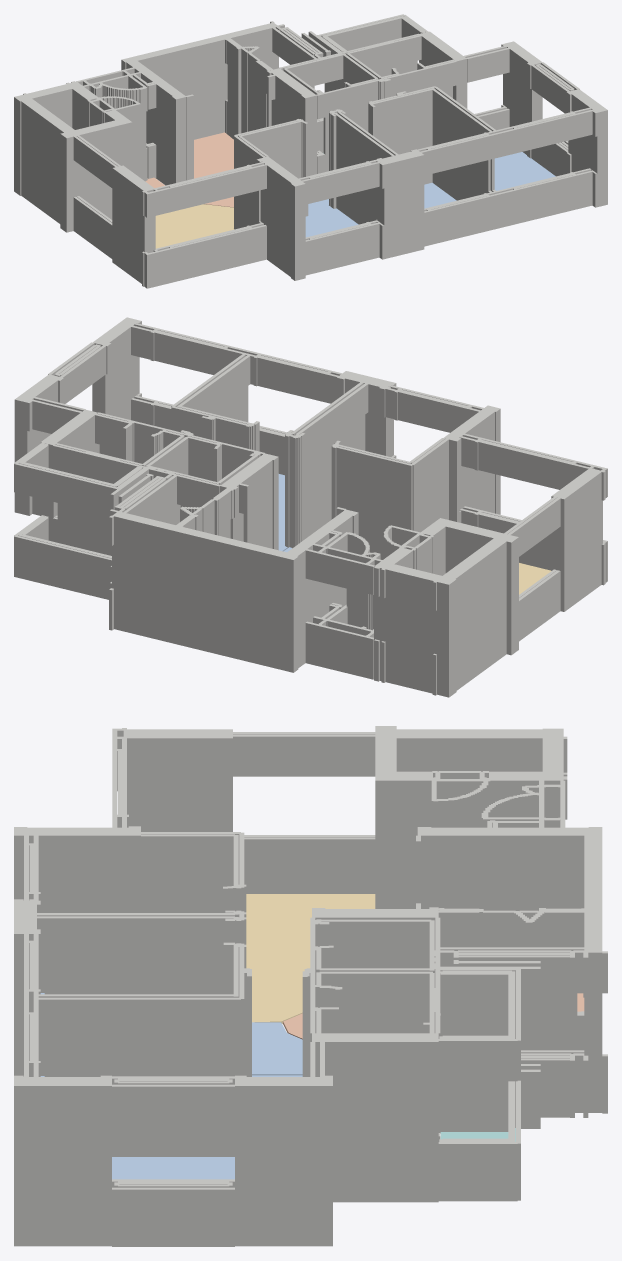
3 renders of one model, top to bottom at view 1: azimuth 30°, elevation 25°; view 2: azimuth 150°, elevation 25°; view 3: azimuth 270°, elevation 25°, orthographic. The views are drawn at different scales.
Parts seen in each view (by area): view 1: walls, room:living:5, room:kitchen:0, room:bedroom:8, room:bedroom:6, room:bedroom:7; view 2: walls, room:living:5, room:bedroom:7; view 3: walls, room:living:5, room:bedroom:8, room:bedroom:6.
Part boxes in pixels (left/top/right/bottom): walls: left=14, top=14, right=607, bottom=288; room:living:5: left=155, top=204, right=234, bottom=248; room:kitchen:0: left=145, top=132, right=233, bottom=207; room:bedroom:8: left=494, top=152, right=555, bottom=190; room:bedroom:6: left=305, top=199, right=358, bottom=237; room:bedroom:7: left=424, top=182, right=456, bottom=208; walls: left=14, top=317, right=607, bottom=697; room:living:5: left=519, top=563, right=550, bottom=594; room:bedroom:7: left=278, top=474, right=287, bottom=551; walls: left=14, top=726, right=607, bottom=1246; room:living:5: left=246, top=894, right=375, bottom=1023; room:bedroom:8: left=112, top=1157, right=234, bottom=1179; room:bedroom:6: left=40, top=993, right=302, bottom=1075.
Bounding box in the file's own units: 13.51 × 2.8 × 9.41.
